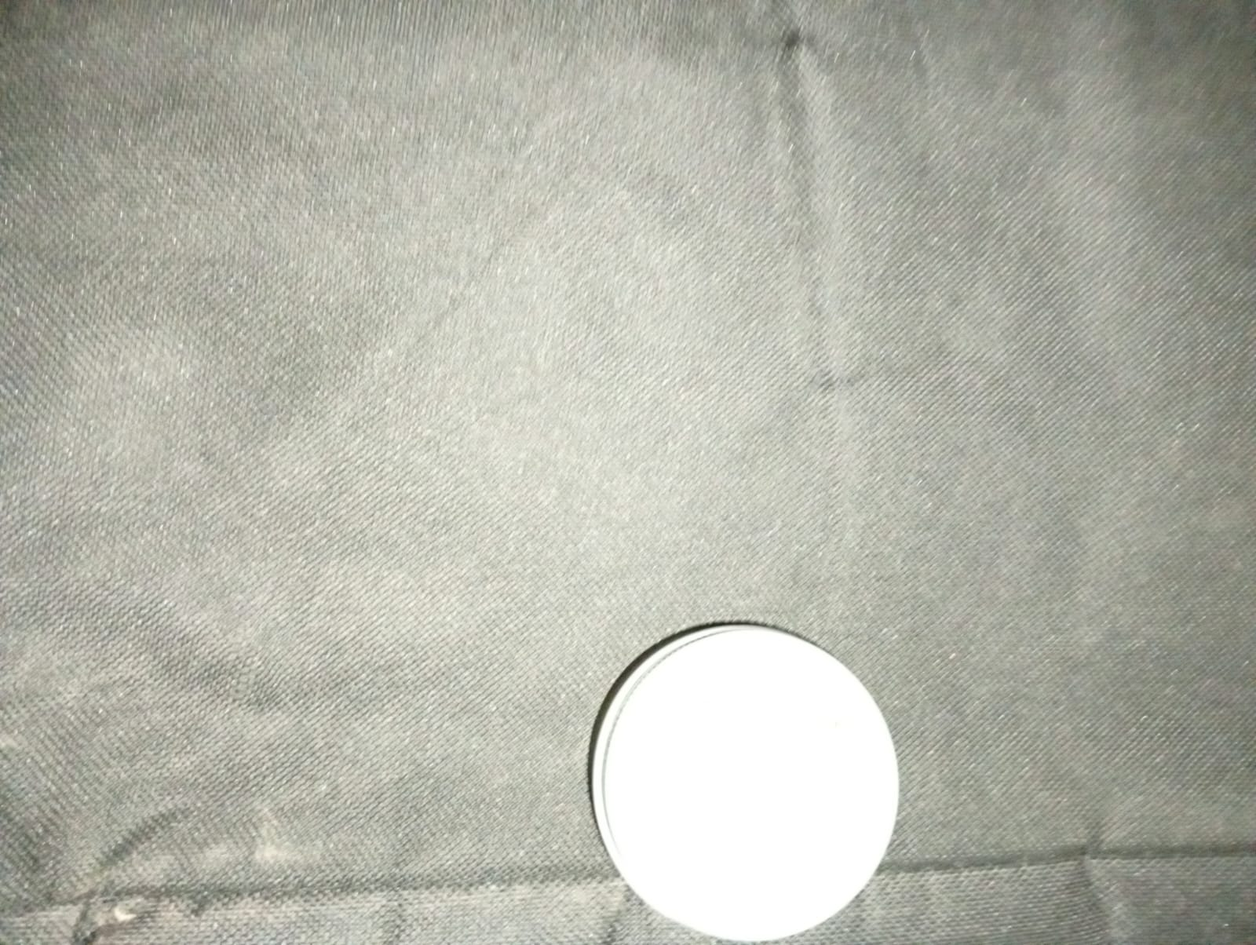Minyak_Rambut: (501, 600, 955, 944)
